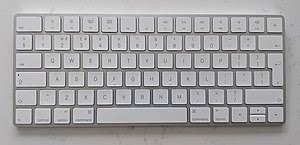keyboard: (11, 13, 285, 128)
